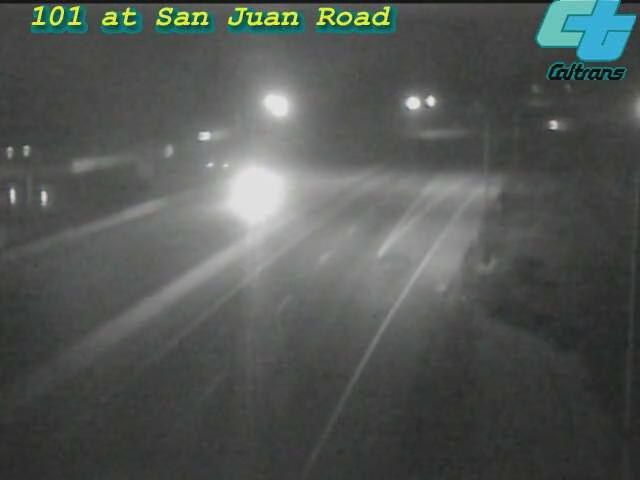vehicle: (209, 155, 289, 235)
